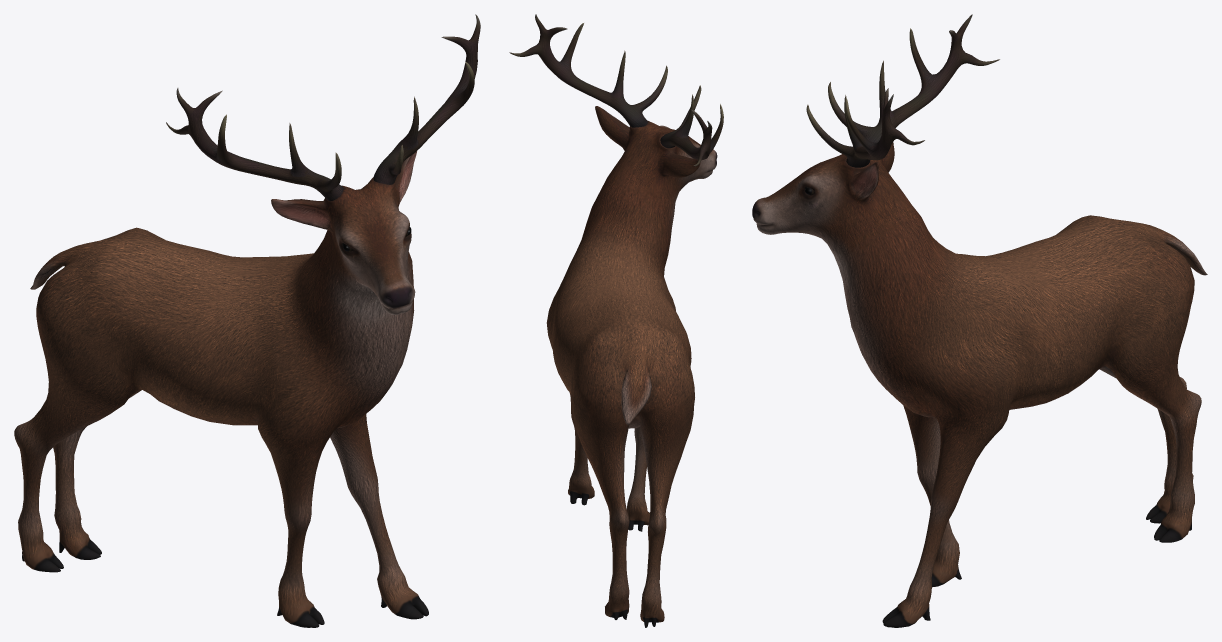
Rendered from model-source-rangifer-tarandus-v0712.glb.
The picture shows the model from 3 angles, left to right: view 1: azimuth 30°, elevation 25°; view 2: azimuth 150°, elevation 25°; view 3: azimuth 270°, elevation 25°; orthographic projection. The views are drawn at different scales.
Visible parts, largest first — view 1: reindeer.1; view 2: reindeer.1; view 3: reindeer.1.
Boxes of the visible parts, x1=… form: reindeer.1: x1=14, y1=14, x2=480, y2=627; reindeer.1: x1=509, y1=14, x2=723, y2=627; reindeer.1: x1=752, y1=14, x2=1207, y2=627.
Size of the model in its own units: 0.0398 by 0.0679 by 0.0502.
Materials: 1 (1 with a texture image).
